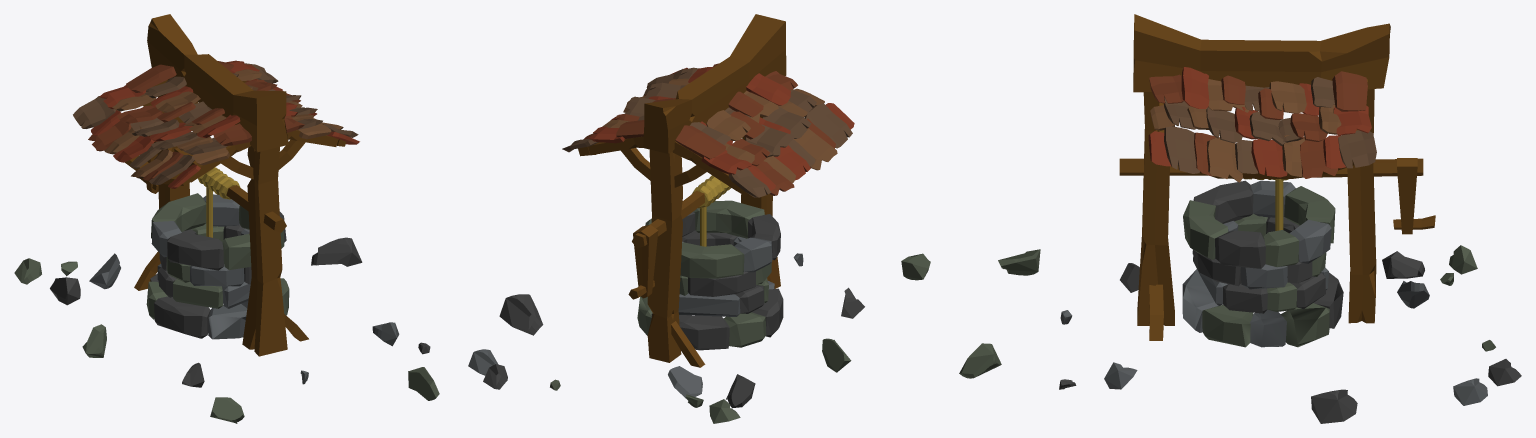
Rendered from Low-Poly-Well-CeQWG_rq.glb.
3 renders of one model, left to right at view 1: azimuth 30°, elevation 25°; view 2: azimuth 150°, elevation 25°; view 3: azimuth 270°, elevation 25°, orthographic. The views are drawn at different scales.
Visible parts, largest first — view 1: Frame.003, Frame.002, Stone base.003, Stone base.004, Stone base.002, Stone base.001, Rock.014, Tile.010, Frame.004, Tile.027, Frame.006, Tile.028 (+28 smaller); view 2: Frame.003, Frame.001, Stone base.003, Stone base.004, Stone base.002, Stone base.001, Tile.027, Tile.004, Rock.014, Frame.004, Tile.014, Handle.002 (+26 smaller); view 3: Frame.003, Stone base.003, Stone base.004, Frame.002, Frame.001, Stone base.002, Stone base.001, Handle.003, Handle.002, Tile.004, Tile.027, Rock.014 (+30 smaller).
Part boxes in pixels (bbox=[...]): Frame.003: bbox=[147, 14, 288, 152]; Frame.002: bbox=[242, 146, 287, 356]; Stone base.003: bbox=[151, 193, 286, 270]; Stone base.004: bbox=[146, 273, 289, 339]; Stone base.002: bbox=[159, 223, 251, 286]; Stone base.001: bbox=[157, 263, 250, 308]; Rock.014: bbox=[311, 237, 362, 266]; Tile.010: bbox=[73, 63, 278, 128]; Frame.004: bbox=[153, 80, 338, 182]; Tile.027: bbox=[126, 61, 233, 92]; Frame.006: bbox=[143, 101, 305, 179]; Tile.028: bbox=[213, 115, 304, 145]; Frame.003: bbox=[643, 14, 786, 153]; Frame.001: bbox=[647, 149, 682, 362]; Stone base.003: bbox=[645, 200, 780, 278]; Stone base.004: bbox=[637, 281, 783, 350]; Stone base.002: bbox=[679, 230, 771, 296]; Stone base.001: bbox=[678, 278, 768, 316]; Tile.027: bbox=[616, 120, 726, 159]; Tile.004: bbox=[643, 69, 852, 148]; Rock.014: bbox=[499, 294, 543, 335]; Frame.004: bbox=[588, 136, 737, 190]; Tile.014: bbox=[645, 82, 811, 138]; Handle.002: bbox=[633, 224, 658, 298]; Frame.003: bbox=[1133, 14, 1390, 92]; Stone base.003: bbox=[1183, 180, 1335, 268]; Stone base.004: bbox=[1182, 269, 1343, 347]; Frame.002: bbox=[1137, 92, 1174, 325]; Frame.001: bbox=[1347, 89, 1376, 323]; Stone base.002: bbox=[1192, 213, 1326, 289]; Stone base.001: bbox=[1199, 267, 1328, 313]; Handle.003: bbox=[1119, 158, 1423, 177]; Handle.002: bbox=[1397, 158, 1417, 234]; Tile.004: bbox=[1164, 126, 1199, 173]; Tile.027: bbox=[1332, 71, 1367, 111]; Rock.014: bbox=[1311, 389, 1357, 423].
Size of the model in its own units: 4.9 by 4.21 by 6.88.
